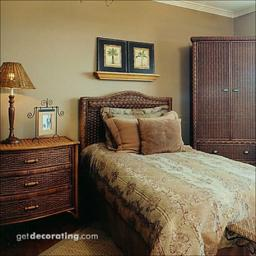Armario: (190, 33, 255, 163)
Cama: (79, 94, 255, 254)
